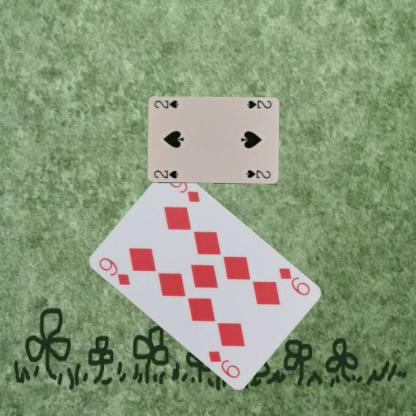2s: (151, 168, 180, 180), (245, 98, 272, 110)
9d: (95, 254, 131, 286), (275, 265, 311, 297)
